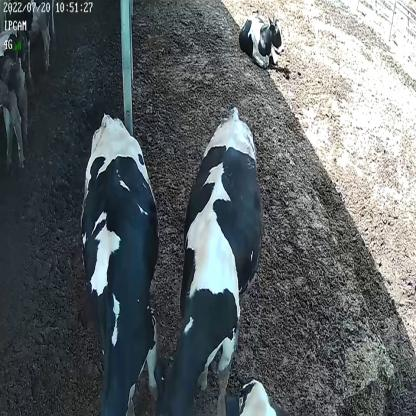cow: (160, 104, 266, 416), (79, 111, 157, 416), (235, 9, 286, 75)
